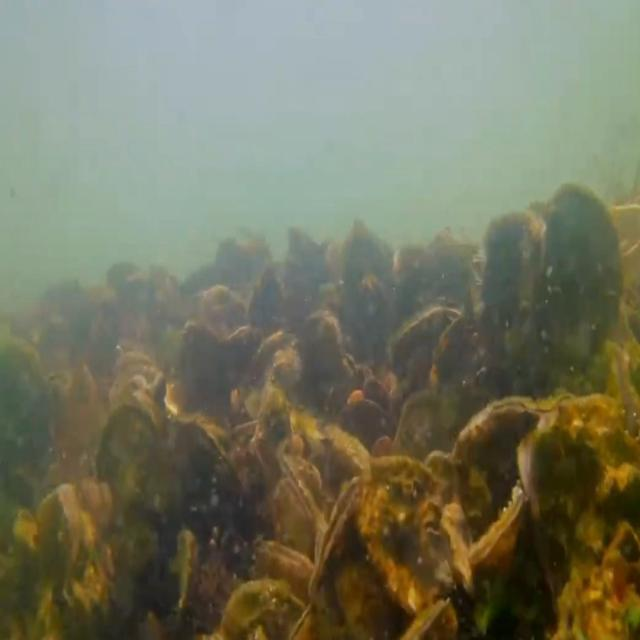Oyster-Closed: (424, 392, 576, 640), (297, 453, 470, 640), (157, 416, 265, 640), (272, 449, 329, 552), (467, 486, 524, 564), (262, 538, 318, 605)
Oyster-Indeterminate: (517, 396, 640, 640), (88, 402, 189, 640), (532, 182, 622, 403), (487, 210, 547, 384), (392, 387, 462, 469)
Oyster-Open: (388, 302, 464, 392)
